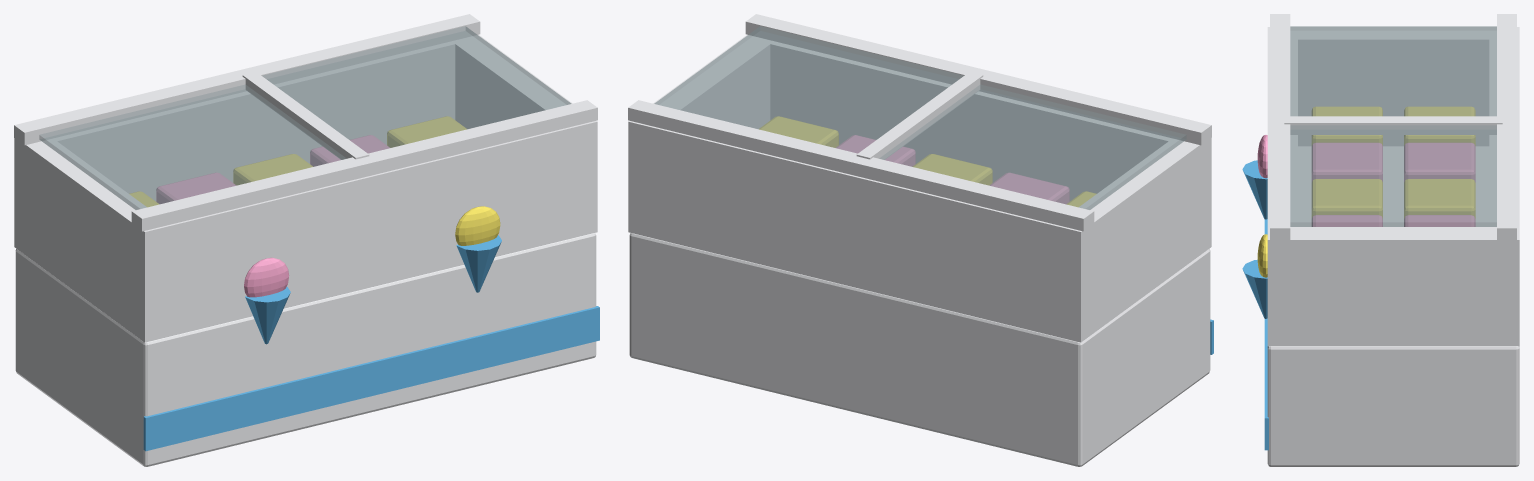
Rendered from kulkas_es_krim.fbx.
The picture shows the model from 3 angles, left to right: view 1: azimuth 30°, elevation 25°; view 2: azimuth 150°, elevation 25°; view 3: azimuth 270°, elevation 25°; orthographic projection. The views are drawn at different scales.
Visible parts, largest first — view 1: kulkas_es_krim, Kaca.003; view 2: kulkas_es_krim, Kaca.003; view 3: kulkas_es_krim, Kaca.003.
Boxes of the visible parts, box(x1,y1,x2,y2) form: kulkas_es_krim: box(14, 14, 599, 466); Kaca.003: box(39, 26, 571, 209); kulkas_es_krim: box(628, 14, 1213, 466); Kaca.003: box(654, 26, 1186, 209); kulkas_es_krim: box(1242, 14, 1519, 466); Kaca.003: box(1290, 26, 1496, 226).
Bounding box in the file's own units: 604 × 318 × 330.
Materials: 2 (2 with a texture image).
